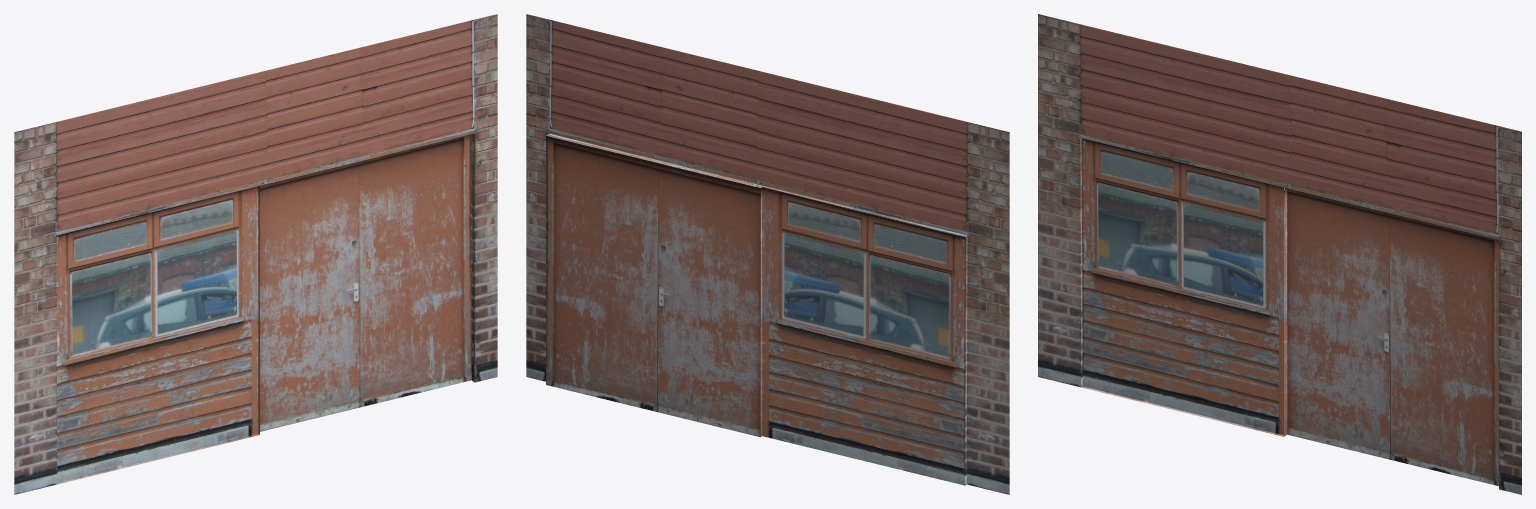
Rendered from 04_shop_front7.glb.
The picture shows the model from 3 angles, left to right: view 1: azimuth 30°, elevation 25°; view 2: azimuth 150°, elevation 25°; view 3: azimuth 330°, elevation 25°; orthographic projection.
Parts seen in each view (by area): view 1: shop_front7; view 2: shop_front7; view 3: shop_front7.
Boxes of the visible parts, x1,y1,x2,y2 form: shop_front7: [14, 14, 497, 494]; shop_front7: [526, 14, 1009, 494]; shop_front7: [1038, 14, 1521, 494].
Size of the model in its own units: 4.99 by 3.58 by 0.0569.
Materials: 2 (2 with a texture image).
